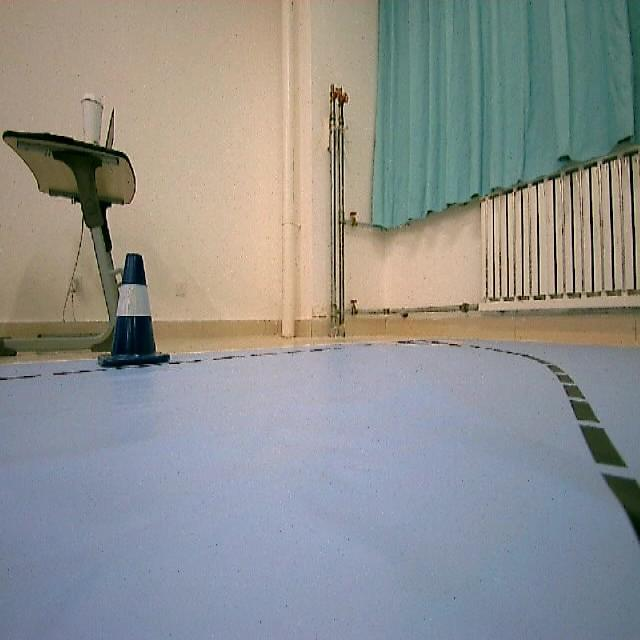obstacle: (103, 250, 175, 370)
